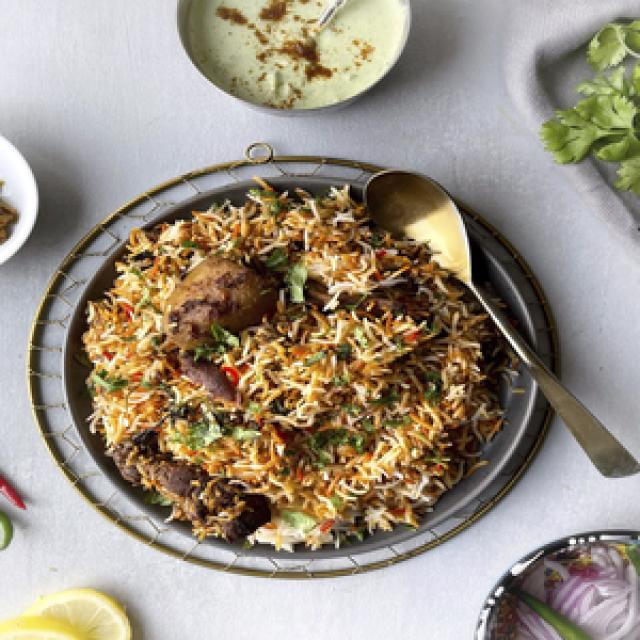chicken biriyani: (68, 173, 522, 565)
